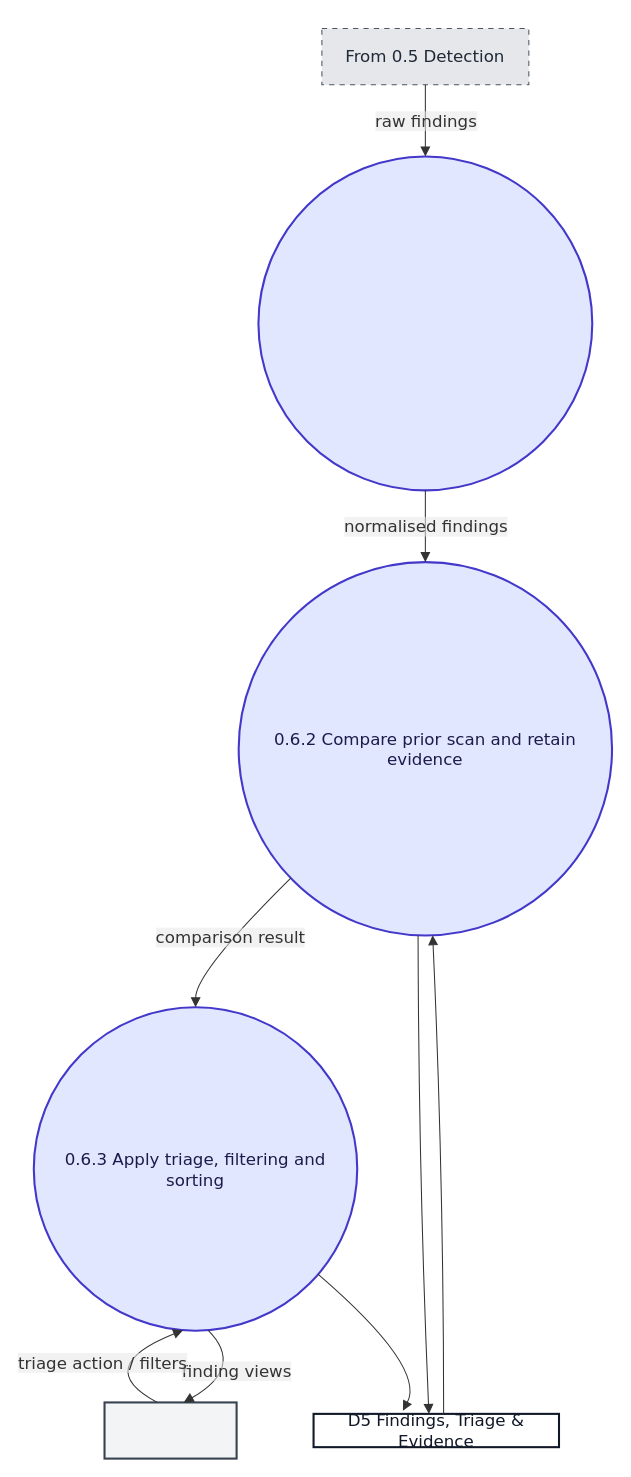
The diagram is 631 pixels wide and 1477 high, and some of its shapes have lost their labels. The centre of each missing label's shape, as x and y in pixels:
0.6.1 Normalise, redact and deduplicate: the point at 425,323
WVS User: the point at 170,1430
